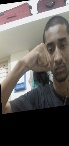hand: (18, 42, 51, 74)
